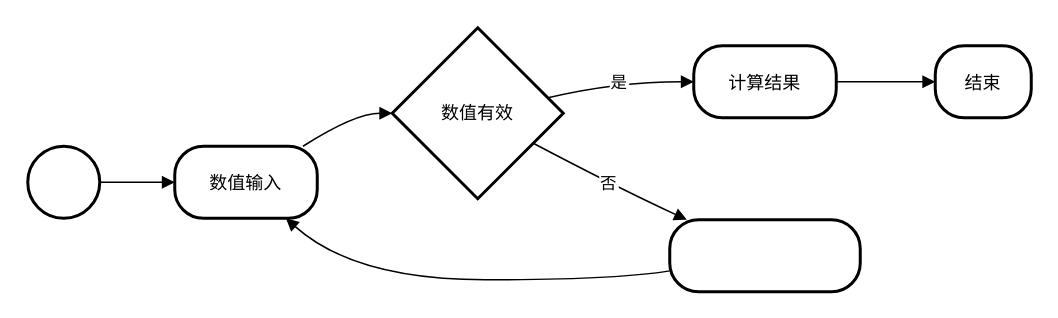
The diagram is 1058 pixels wide and 318 high, and some of its shapes have lost their labels. The centre of each missing label's shape, as x and y in pixels:
"开始" goes at point 63,181.
"提示错误信息" goes at point 764,255.
